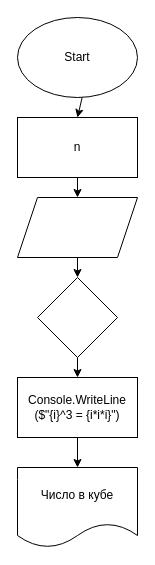
The diagram is 155 pixels wide and 565 high, and some of its shapes have lost their labels. The shapes that lost their labels are listed below. From the top down, each one's box as (x1, y1, x2, y2) in pixels, then its label:
(16, 196, 138, 258): int i = 1 i ++
(36, 276, 118, 358): i <= n
